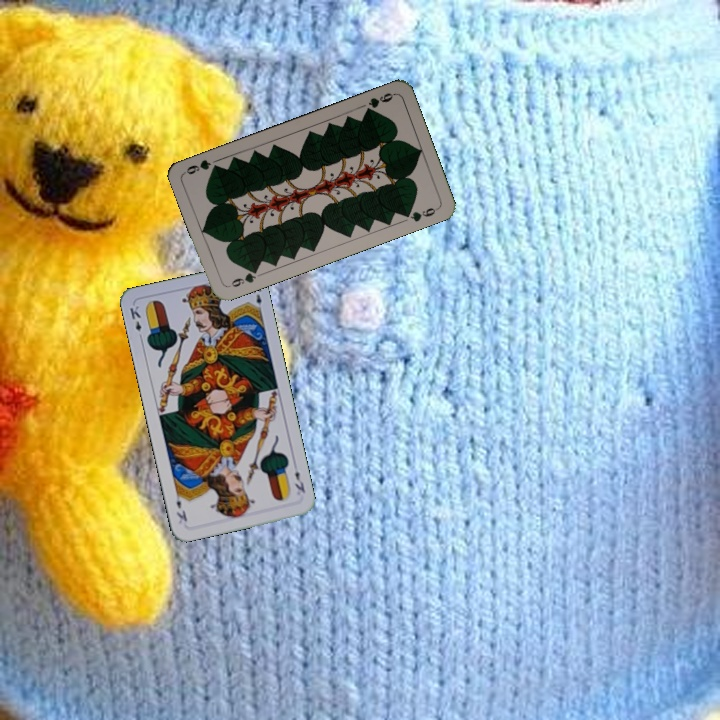EK: (126, 302, 145, 342), (290, 467, 308, 495)
G9: (361, 89, 397, 116), (224, 264, 261, 290)
